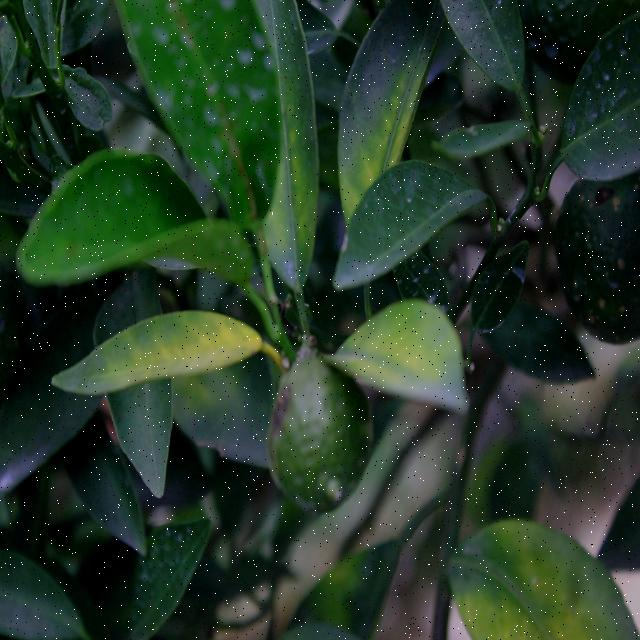greening: (29, 171, 248, 282), (447, 517, 637, 640), (70, 313, 267, 395), (354, 297, 465, 411), (267, 62, 315, 290), (342, 46, 422, 180)
